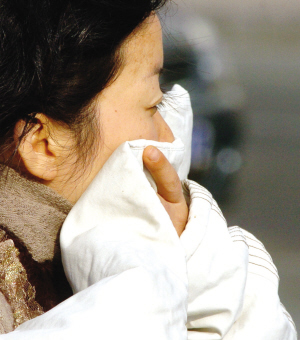face: (68, 1, 191, 247)
